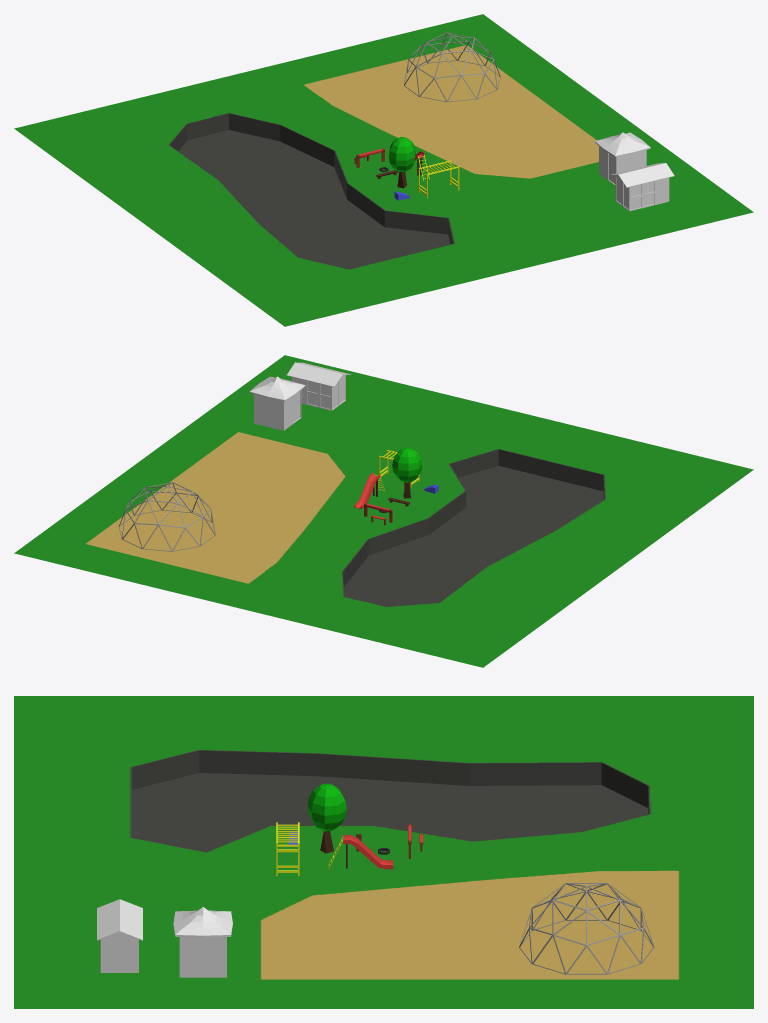
Rendered from TickHunt_Map1withOnlyObjects.fbx.
3 renders of one model, top to bottom at view 1: azimuth 30°, elevation 25°; view 2: azimuth 150°, elevation 25°; view 3: azimuth 270°, elevation 25°, orthographic. The views are drawn at different scales.
Parts seen in each view (by area): view 1: Ground, PartridgeCabin, Cabin, Icosphere, Tree; view 2: Ground, Cabin, PartridgeCabin, Icosphere, Tree; view 3: Ground, Cabin, Icosphere, PartridgeCabin, Tree, Ramp.
Part boxes in pixels (bbox=[...]): Ground: bbox=[14, 14, 753, 326]; PartridgeCabin: bbox=[610, 163, 674, 211]; Cabin: bbox=[595, 132, 650, 185]; Icosphere: bbox=[404, 32, 500, 102]; Tree: bbox=[389, 137, 415, 171]; Ground: bbox=[14, 355, 753, 667]; Cabin: bbox=[249, 376, 305, 430]; PartridgeCabin: bbox=[286, 362, 351, 410]; Icosphere: bbox=[119, 482, 215, 551]; Tree: bbox=[392, 447, 422, 482]; Ground: bbox=[14, 696, 753, 1008]; Cabin: bbox=[173, 907, 232, 977]; Icosphere: bbox=[519, 883, 654, 974]; PartridgeCabin: bbox=[97, 899, 142, 972]; Tree: bbox=[307, 783, 346, 831]; Ramp: bbox=[343, 835, 393, 869].
Size of the model in its own units: 15000 by 1973 by 15000.
Materials: 9 (1 with a texture image).
